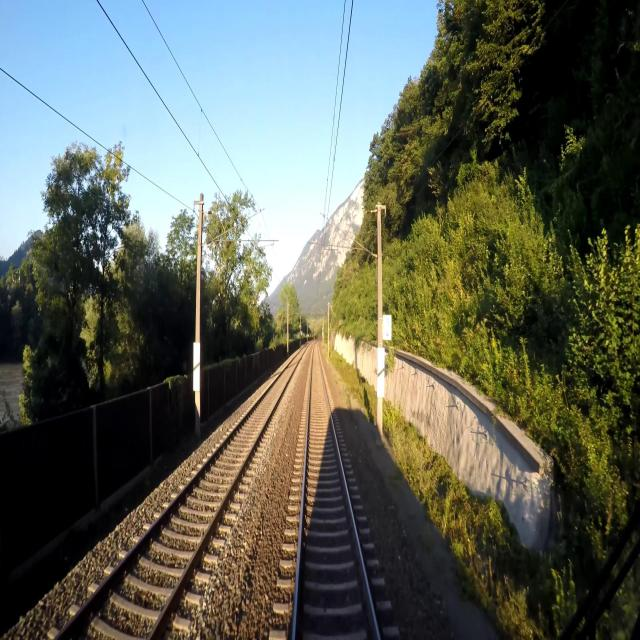rail-track: (60, 353, 301, 639), (296, 345, 376, 639)
